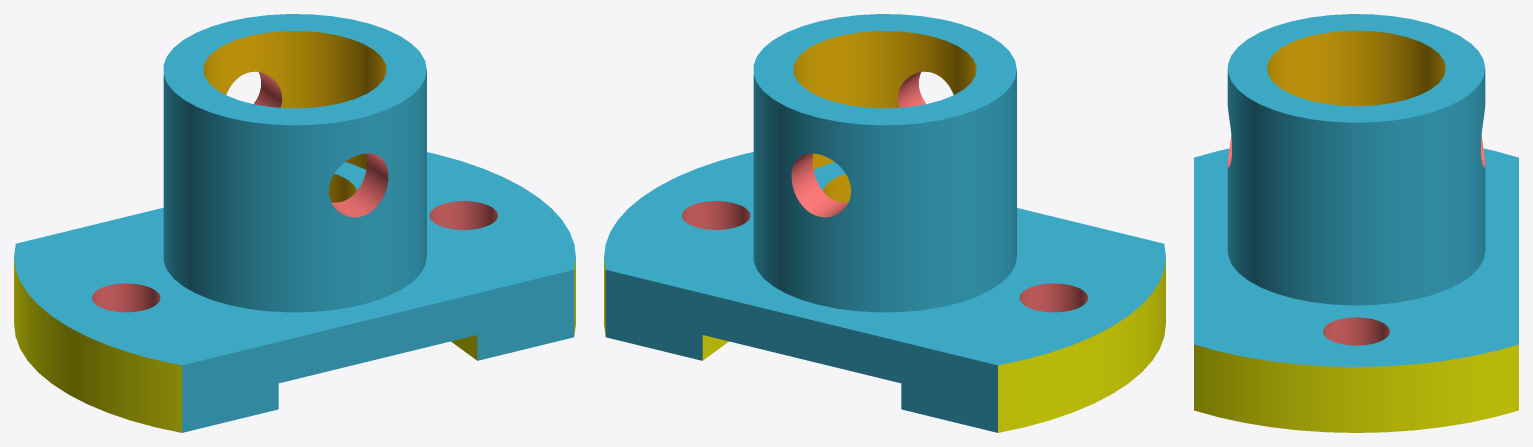
3 renders of one model, left to right at view 1: azimuth 30°, elevation 25°; view 2: azimuth 150°, elevation 25°; view 3: azimuth 270°, elevation 25°, orthographic. The views are drawn at different scales.
Bounding box in the file's own units: 98 × 49 × 58.
